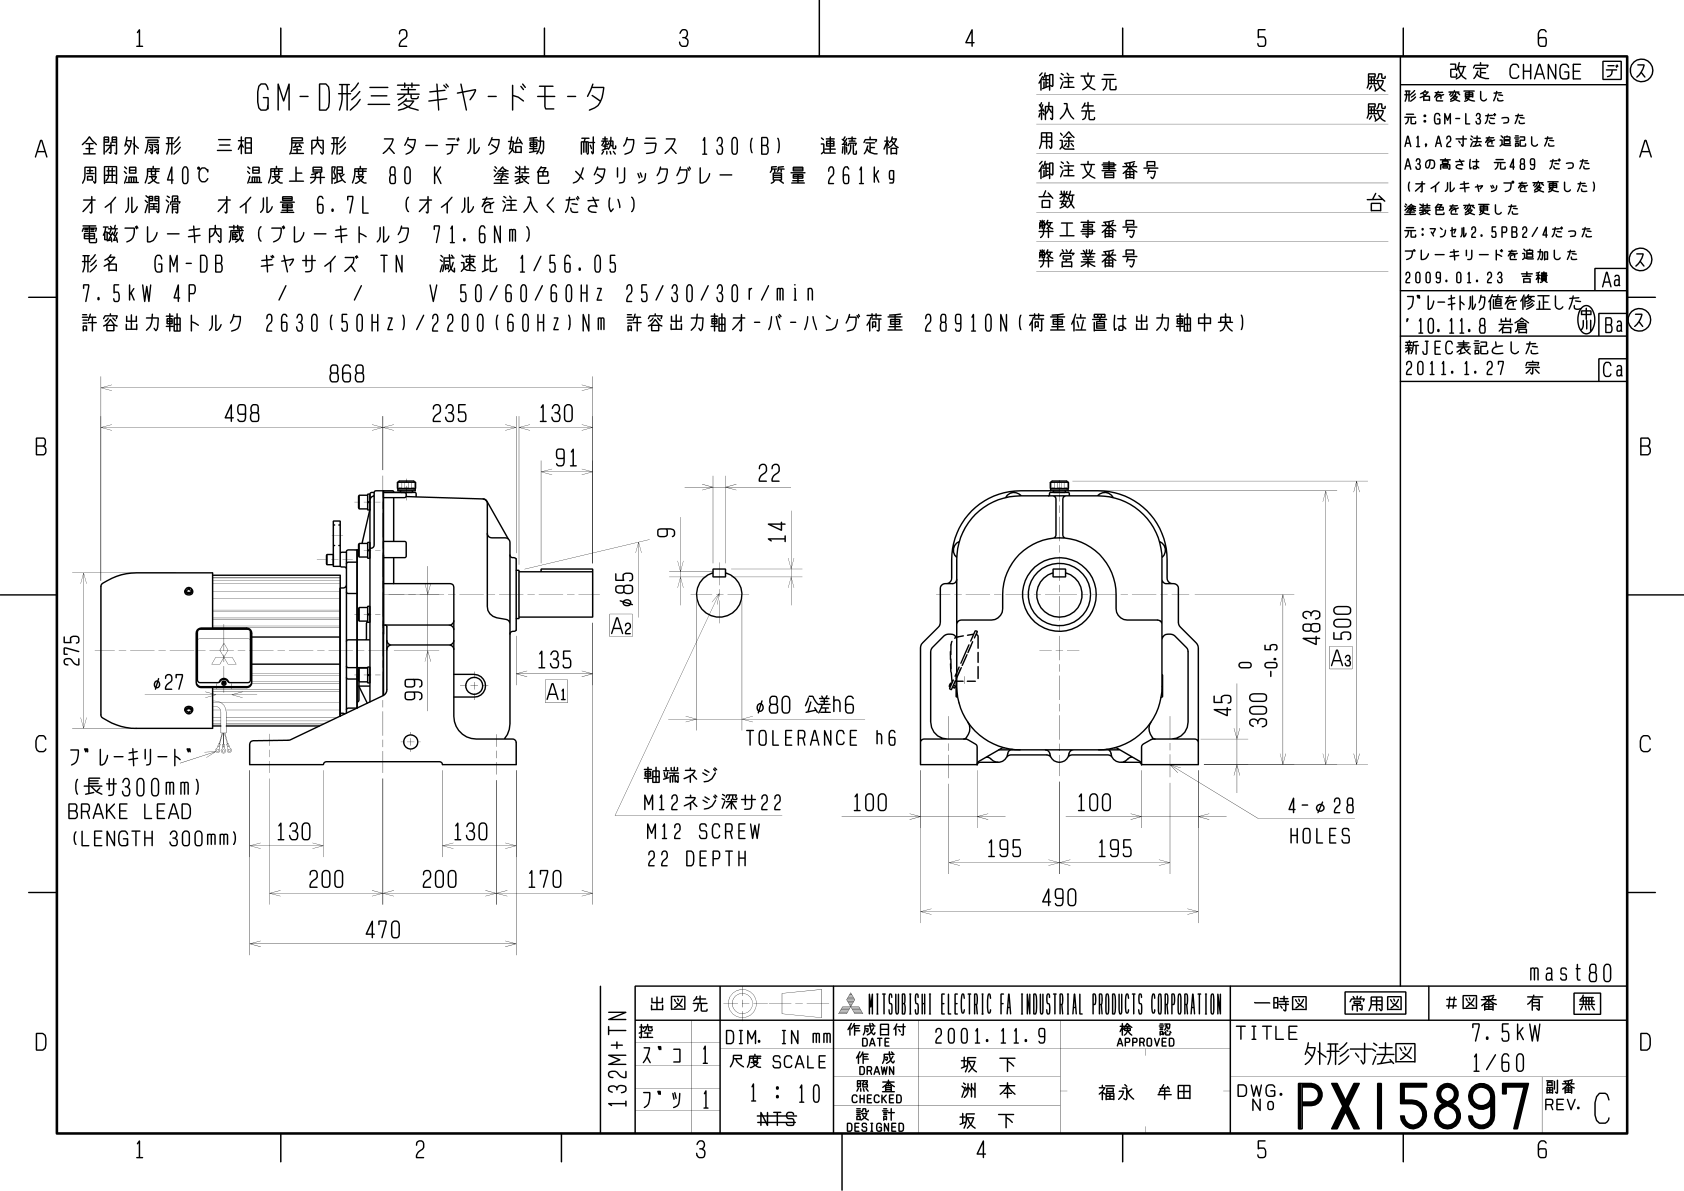GM_D_屋内＿三相_脚: (1, 1, 1681, 1183)
